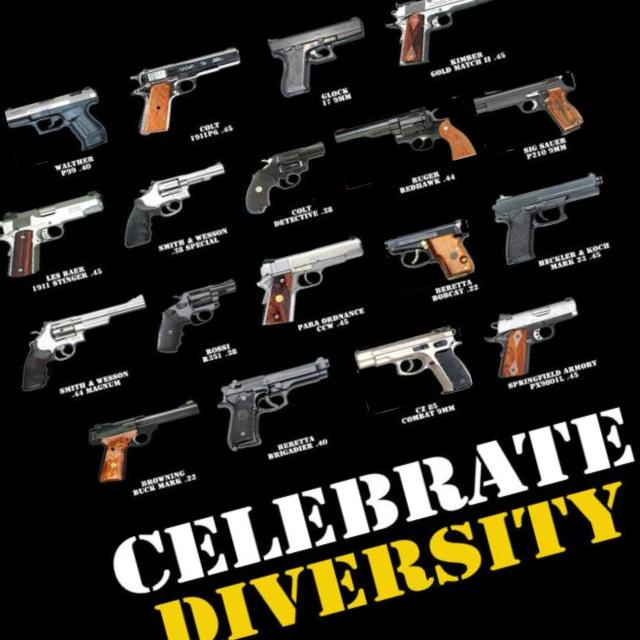Gun: (22, 294, 144, 390), (217, 356, 328, 450), (492, 172, 600, 263), (131, 47, 239, 135), (257, 239, 363, 324), (0, 191, 102, 277), (88, 401, 197, 481), (125, 162, 225, 248), (354, 326, 473, 394), (269, 17, 363, 97), (334, 106, 475, 159), (485, 298, 576, 378), (389, 0, 491, 65), (473, 75, 583, 135), (5, 87, 107, 150), (157, 280, 234, 353), (245, 143, 324, 213), (386, 221, 475, 279)
